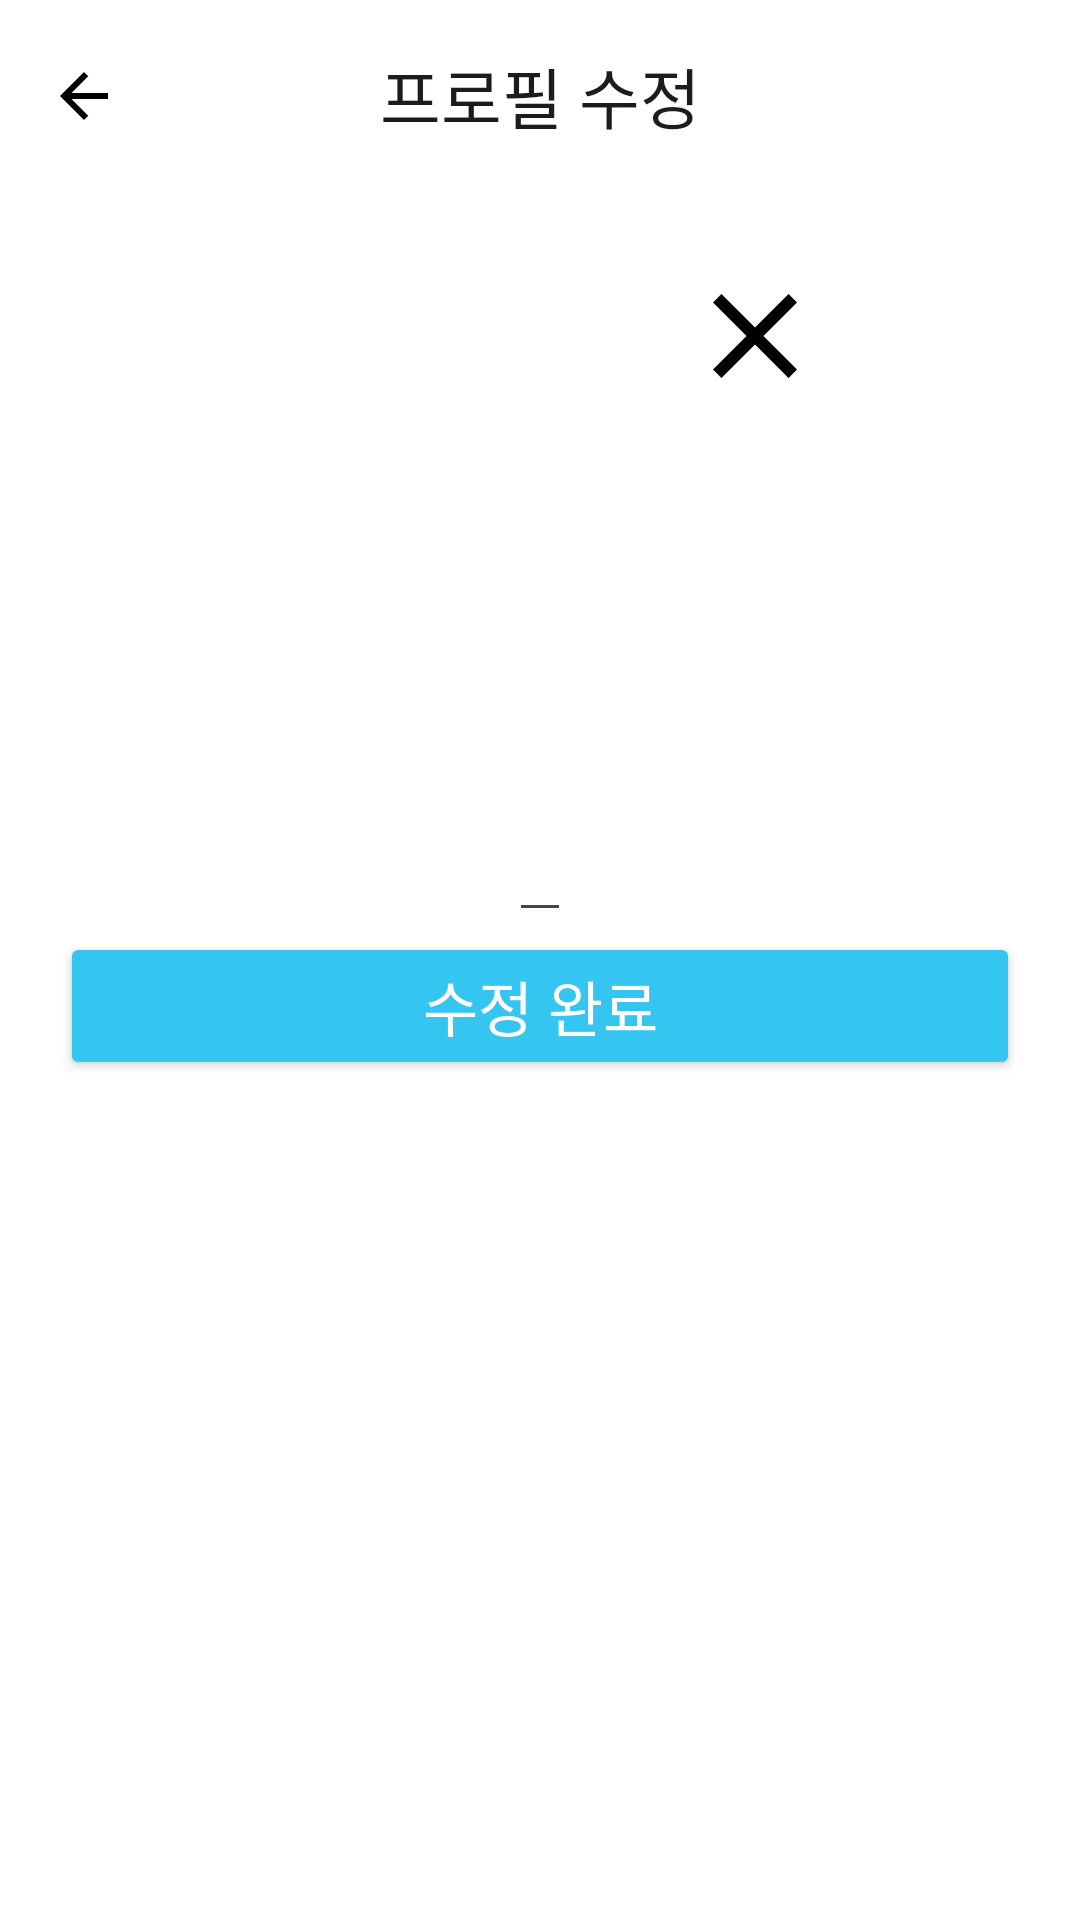

Screen size 1080x1920. Icon name, then its box in pixels as (x1=x1, y1=y1, x2=x2, y2=y2):
close: (x1=713, y1=294, x2=797, y2=378)
